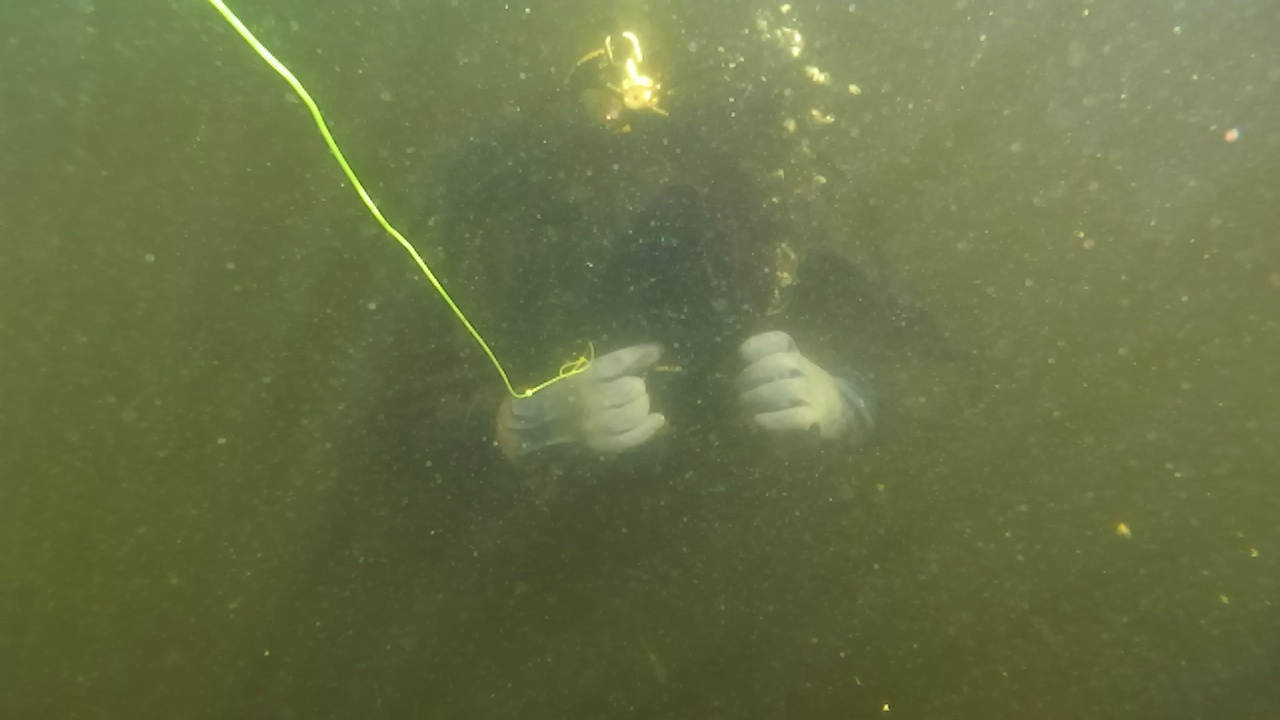Diver: (328, 24, 1052, 602)
Hand: (464, 322, 686, 488), (728, 304, 904, 470)
